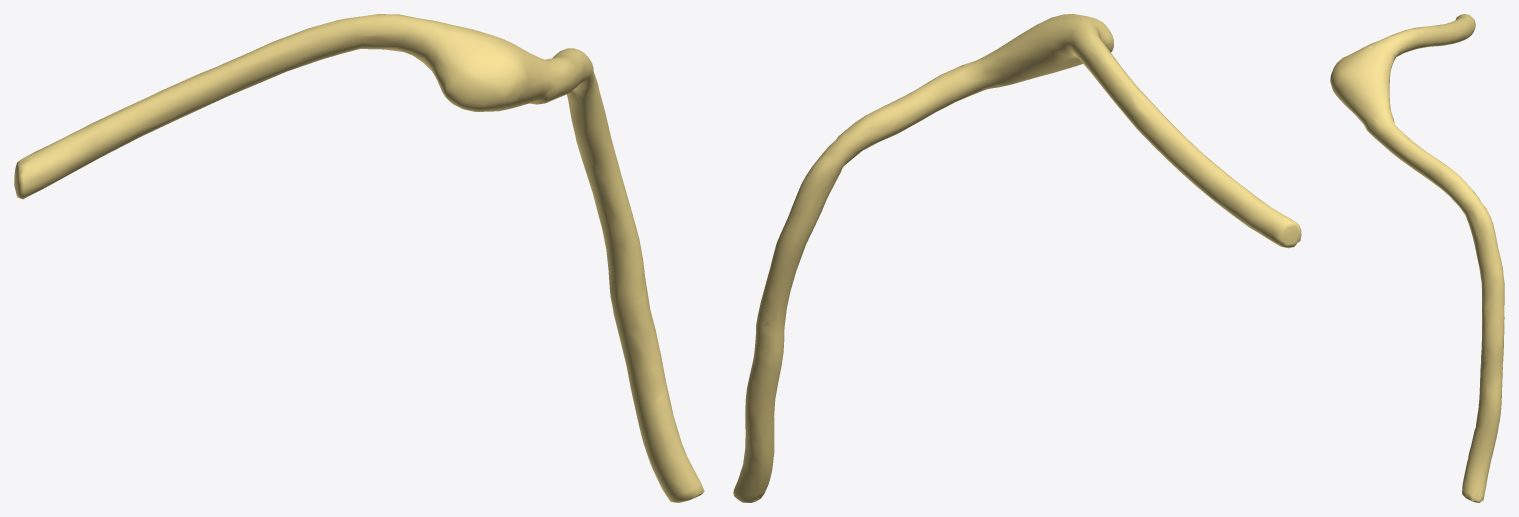
Rendered from fma65422_mm1025.glb.
3 renders of one model, left to right at view 1: azimuth 30°, elevation 25°; view 2: azimuth 150°, elevation 25°; view 3: azimuth 270°, elevation 25°, orthographic. The views are drawn at different scales.
Visible parts, largest first — view 1: FMA65422_MM1025; view 2: FMA65422_MM1025; view 3: FMA65422_MM1025.
Boxes of the visible parts, box(x1,y1,x2,y2) form: FMA65422_MM1025: box(14, 14, 704, 502); FMA65422_MM1025: box(733, 14, 1301, 502); FMA65422_MM1025: box(1330, 14, 1504, 502).
Bounding box in the file's own units: 0.0227 × 0.0194 × 0.00842.
